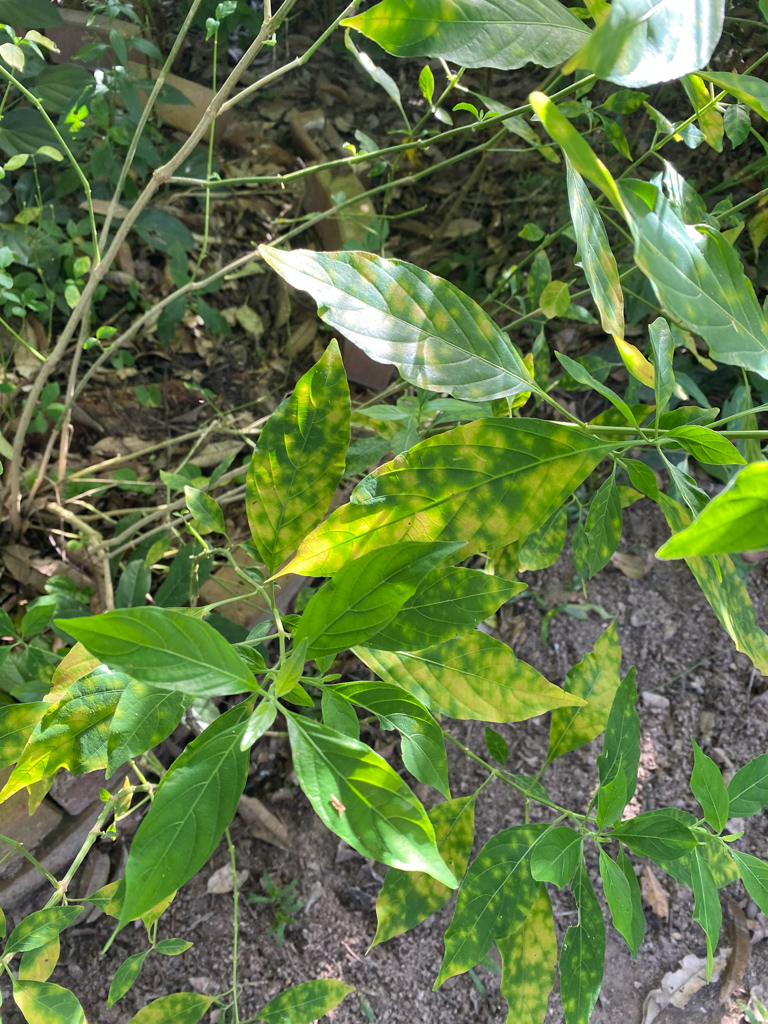Pepper yellow leaf: (264, 425, 603, 600), (251, 236, 536, 407), (241, 334, 346, 594), (354, 623, 585, 724), (423, 817, 546, 984), (365, 791, 480, 965), (3, 666, 128, 814), (536, 626, 628, 751), (502, 885, 556, 1019), (249, 975, 362, 1020), (8, 900, 88, 960), (9, 974, 93, 1019), (124, 988, 219, 1020)
